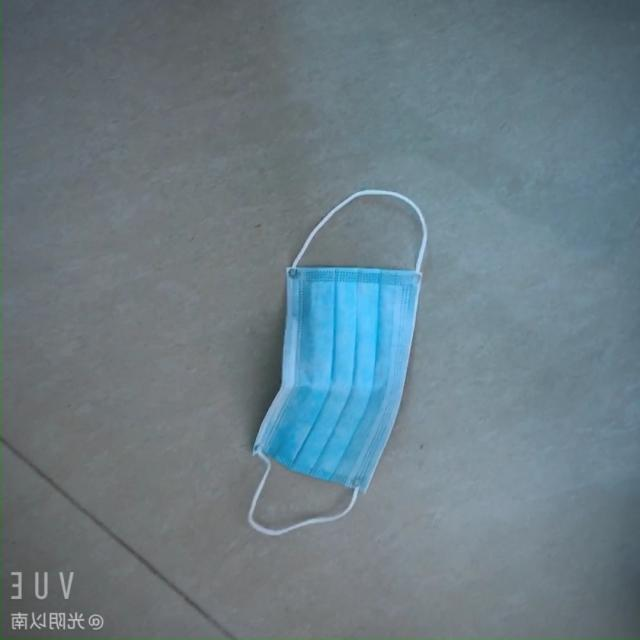face mask: (254, 176, 443, 522)
